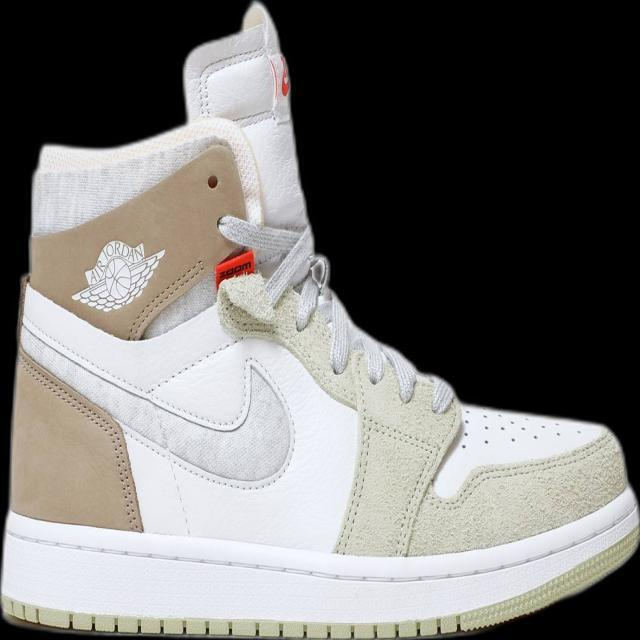J1_InsoleChar: (1, 1, 637, 638)
J1_ShoeLogo: (28, 142, 254, 341), (70, 238, 166, 313)
J1_StitchPattern: (1, 502, 637, 637), (215, 212, 456, 415), (331, 367, 462, 558), (16, 347, 144, 533), (2, 596, 467, 638), (123, 256, 208, 341), (466, 405, 588, 449)
